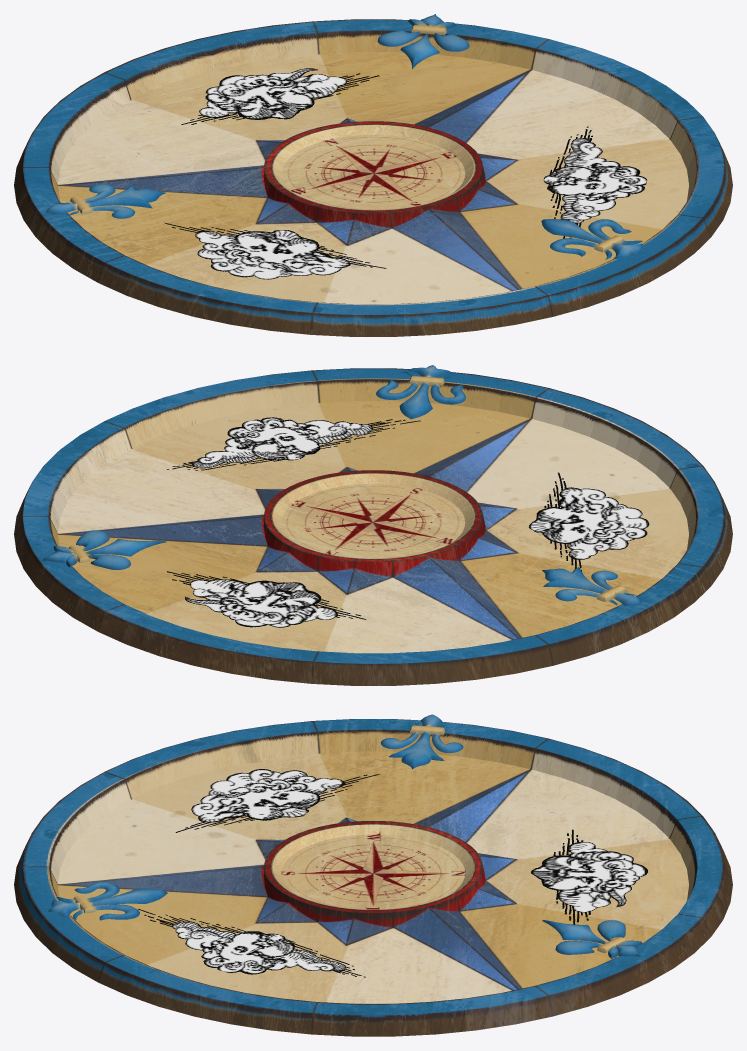
The model's file is button 14.FBX.
3 views of the same model, one above another, from view 1: azimuth 30°, elevation 25°; view 2: azimuth 150°, elevation 25°; view 3: azimuth 270°, elevation 25° (orthographic).
Parts seen in each view (by area): view 1: Tube004, Plane001, Plane002, Plane003, Object010, Object008, Object009; view 2: Tube004, Plane001, Plane002, Plane003, Object008, Object010, Object009; view 3: Tube004, Plane001, Plane003, Plane002, Object010, Object008, Object009.
Part boxes in pixels (x1=…): Tube004: x1=14, y1=19, x2=732, y2=336; Plane001: x1=164, y1=222, x2=386, y2=279; Plane002: x1=181, y1=68, x2=379, y2=124; Plane003: x1=543, y1=126, x2=647, y2=238; Object010: x1=541, y1=219, x2=642, y2=259; Object008: x1=377, y1=14, x2=469, y2=69; Object009: x1=46, y1=184, x2=165, y2=218; Tube004: x1=14, y1=368, x2=732, y2=685; Plane001: x1=529, y1=472, x2=649, y2=571; Plane002: x1=167, y1=571, x2=366, y2=627; Plane003: x1=167, y1=417, x2=420, y2=470; Object008: x1=42, y1=530, x2=166, y2=569; Object010: x1=376, y1=365, x2=465, y2=419; Object009: x1=542, y1=567, x2=641, y2=605; Tube004: x1=14, y1=719, x2=732, y2=1036; Plane001: x1=175, y1=769, x2=380, y2=832; Plane003: x1=138, y1=909, x2=365, y2=977; Plane002: x1=531, y1=829, x2=647, y2=924; Object010: x1=48, y1=881, x2=167, y2=920; Object008: x1=542, y1=920, x2=642, y2=958; Object009: x1=381, y1=714, x2=463, y2=769.
Bounding box in the file's own units: 89.17 × 3.93 × 89.32.
